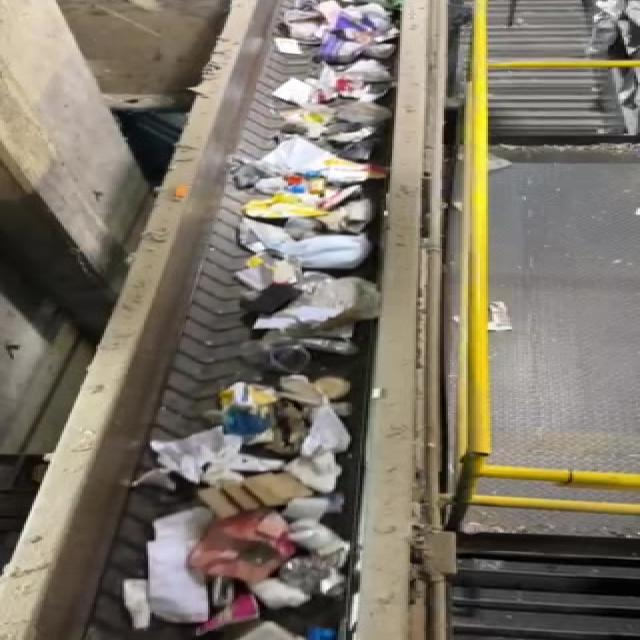paper: (212, 371, 374, 450), (134, 514, 208, 622), (136, 428, 234, 494), (210, 468, 314, 510)
pp: (204, 510, 304, 582)
